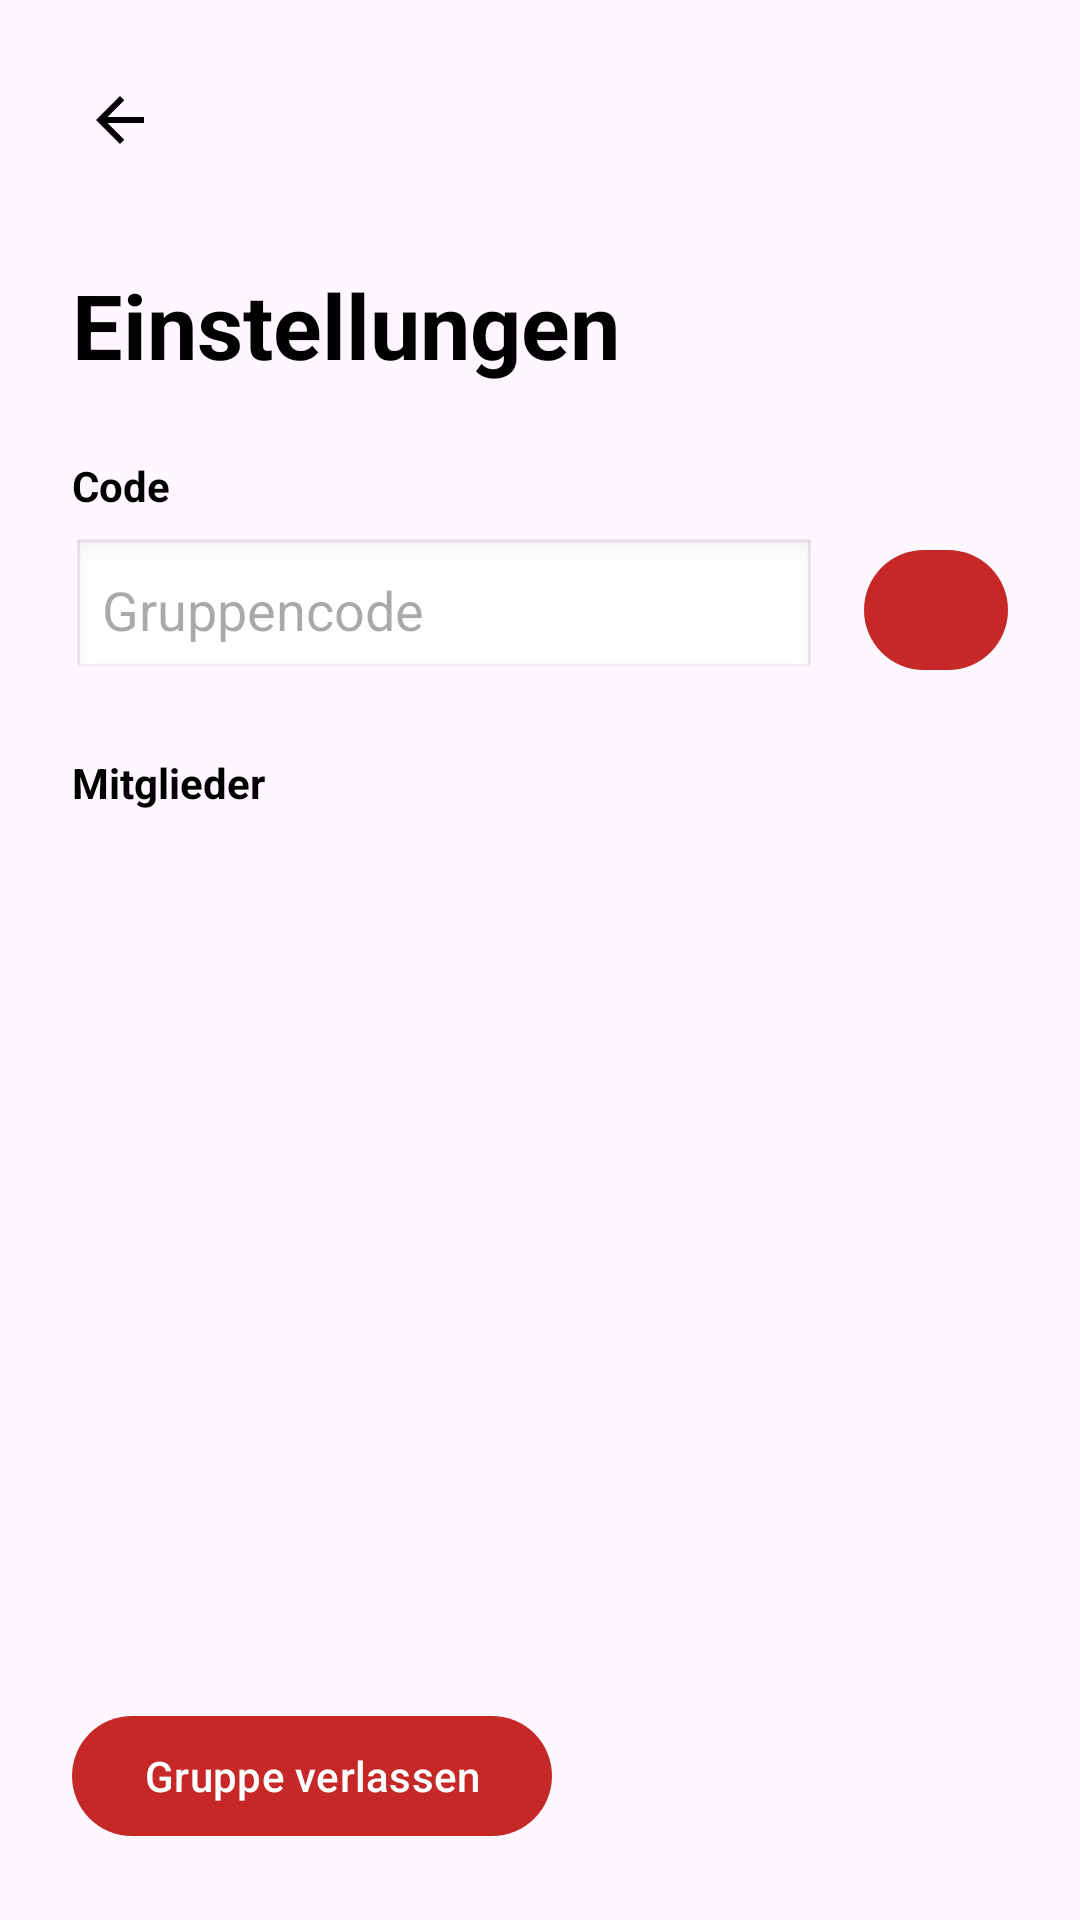

Where icons sit on this 1080 x 1920 app screen, as (x1, y1, x2, y2):
Zurück: (96, 96, 144, 144)
